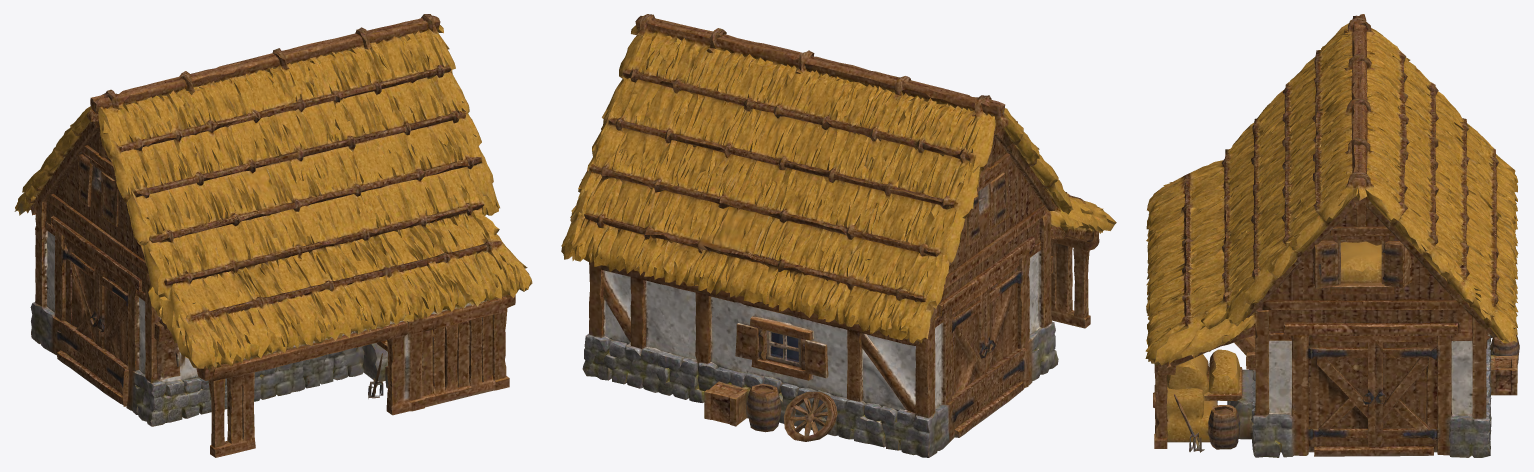
File: barn_lite.glb
3 views of the same model, side by side, from view 1: azimuth 30°, elevation 25°; view 2: azimuth 150°, elevation 25°; view 3: azimuth 270°, elevation 25° (orthographic). The views are drawn at different scales.
Visible parts, largest first — view 1: geometry_0; view 2: geometry_0; view 3: geometry_0.
Boxes of the visible parts, box(x1,y1,x2,y2) form: geometry_0: box(14, 14, 532, 457); geometry_0: box(561, 14, 1116, 457); geometry_0: box(1145, 14, 1519, 457).
Size of the model in its own units: 1.84 by 1.45 by 1.7.
Materials: 1 (1 with a texture image).
